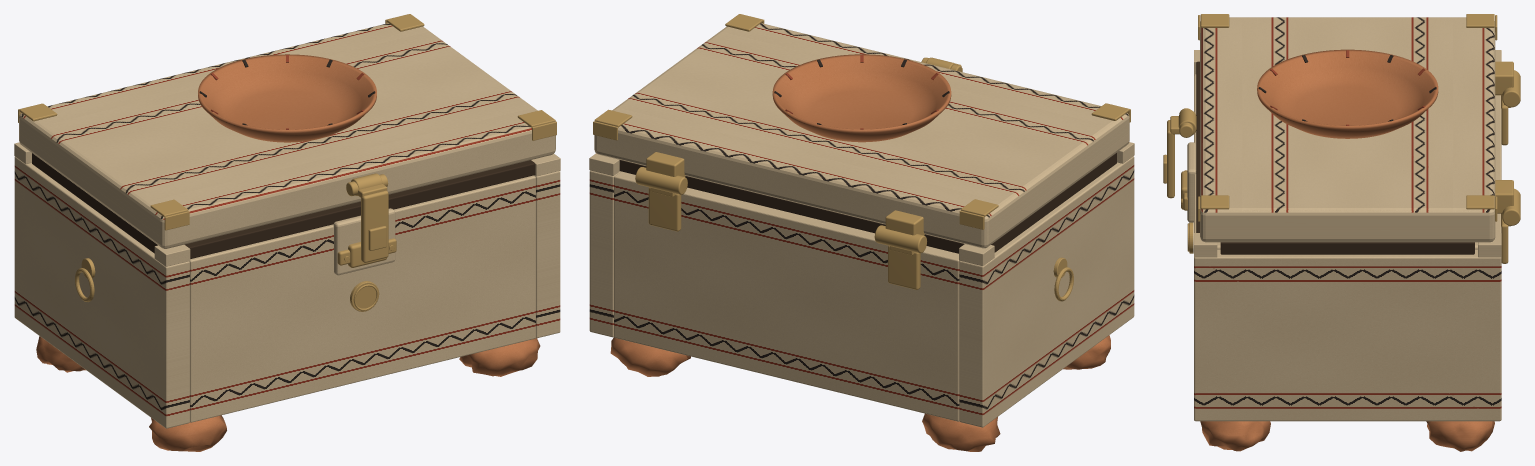
Rendered from tunisia.glb.
3 views of the same model, side by side, from view 1: azimuth 30°, elevation 25°; view 2: azimuth 150°, elevation 25°; view 3: azimuth 270°, elevation 25° (orthographic).
Parts seen in each view (by area): view 1: Lid / polished slab, Clay / front rear, Clay / side, Sejnane / shallow dish, Mineral seam / long, Clay / side.001, Granite foot, Granite foot.002, Latch / lifting hasp, Clay / clasp seat, Mineral seam / side, Granite foot.001 (+2 smaller); view 2: Lid / polished slab, Clay / front rear.001, Clay / side, Sejnane / shallow dish, Clay / side.001, Mineral seam / long.001, Granite foot.001, Granite foot.003, Mineral seam / side, Hinge / fixed mount.001, Hinge / fixed mount, Hinge / fixed barrel.001 (+6 smaller); view 3: Lid / polished slab, Clay / side.001, Sejnane / shallow dish, Mineral seam / side.001, Granite foot.002, Granite foot.003, Clay / front rear.001, Clay / clasp seat, Mineral seam / long, Hinge / moving leaf, Latch / lifting hasp, Hinge / moving leaf.001 (+8 smaller).
Part boxes in pixels (bbox=[...]): Lid / polished slab: bbox=[19, 23, 555, 248]; Clay / front rear: bbox=[189, 175, 535, 422]; Clay / side: bbox=[14, 156, 189, 428]; Sejnane / shallow dish: bbox=[198, 54, 376, 142]; Mineral seam / long: bbox=[184, 160, 535, 258]; Clay / side.001: bbox=[534, 171, 560, 338]; Granite foot: bbox=[149, 415, 226, 451]; Granite foot.002: bbox=[459, 338, 540, 376]; Latch / lifting hasp: bbox=[361, 190, 388, 262]; Clay / clasp seat: bbox=[333, 208, 395, 275]; Mineral seam / side: bbox=[32, 153, 157, 253]; Granite foot.001: bbox=[36, 336, 85, 372]; Lid / polished slab: bbox=[594, 23, 1129, 248]; Clay / front rear.001: bbox=[614, 171, 959, 421]; Clay / side: bbox=[959, 156, 1134, 427]; Sejnane / shallow dish: bbox=[772, 54, 951, 142]; Clay / side.001: bbox=[589, 170, 620, 337]; Mineral seam / long.001: bbox=[619, 160, 964, 253]; Granite foot.001: bbox=[922, 413, 1000, 451]; Granite foot.003: bbox=[610, 337, 690, 376]; Mineral seam / side: bbox=[991, 153, 1116, 252]; Hinge / fixed mount.001: bbox=[648, 187, 681, 231]; Hinge / fixed mount: bbox=[888, 245, 920, 289]; Hinge / fixed barrel.001: bbox=[635, 167, 687, 194]; Lid / polished slab: bbox=[1200, 17, 1495, 242]; Clay / side.001: bbox=[1194, 249, 1501, 421]; Sejnane / shallow dish: bbox=[1257, 49, 1438, 138]; Mineral seam / side.001: bbox=[1220, 242, 1474, 254]; Granite foot.002: bbox=[1200, 421, 1270, 451]; Granite foot.003: bbox=[1426, 421, 1494, 451]; Clay / front rear.001: bbox=[1495, 95, 1501, 232]; Clay / clasp seat: bbox=[1187, 142, 1196, 222]; Mineral seam / long: bbox=[1196, 61, 1199, 232]; Hinge / moving leaf: bbox=[1495, 61, 1513, 95]; Latch / lifting hasp: bbox=[1167, 120, 1174, 198]; Hinge / moving leaf.001: bbox=[1495, 180, 1513, 213].
Size of the model in its own units: 3.79 by 2.51 by 2.88.
Materials: 7 (3 with a texture image).
